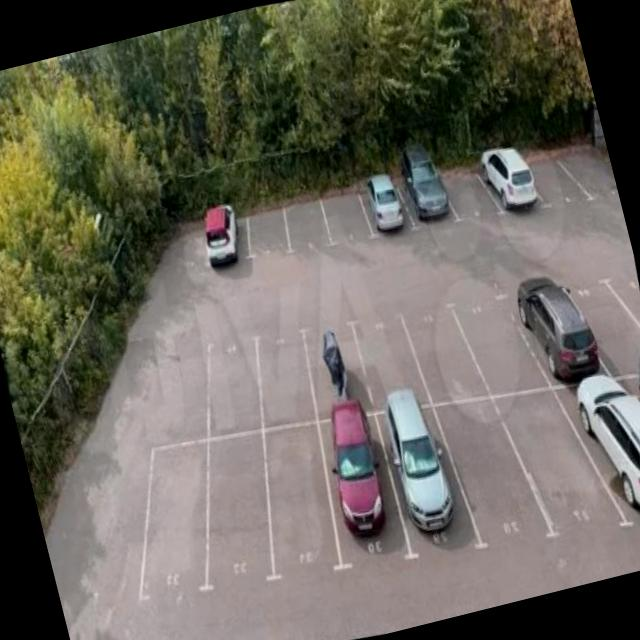car: (366, 394, 481, 577), (306, 404, 416, 581), (551, 360, 640, 559), (502, 260, 612, 398), (292, 311, 376, 423), (476, 136, 554, 234), (387, 154, 462, 248), (195, 201, 260, 278), (356, 170, 418, 249)
free: (491, 371, 628, 560), (426, 386, 548, 564), (118, 436, 240, 608), (242, 415, 358, 593), (184, 425, 298, 599), (451, 270, 551, 401), (344, 298, 431, 417), (401, 286, 486, 406), (561, 253, 640, 381), (193, 322, 276, 437), (243, 316, 324, 427), (515, 126, 596, 228), (554, 120, 624, 230), (432, 144, 512, 239), (314, 182, 379, 264), (278, 186, 340, 259), (240, 202, 296, 264)
